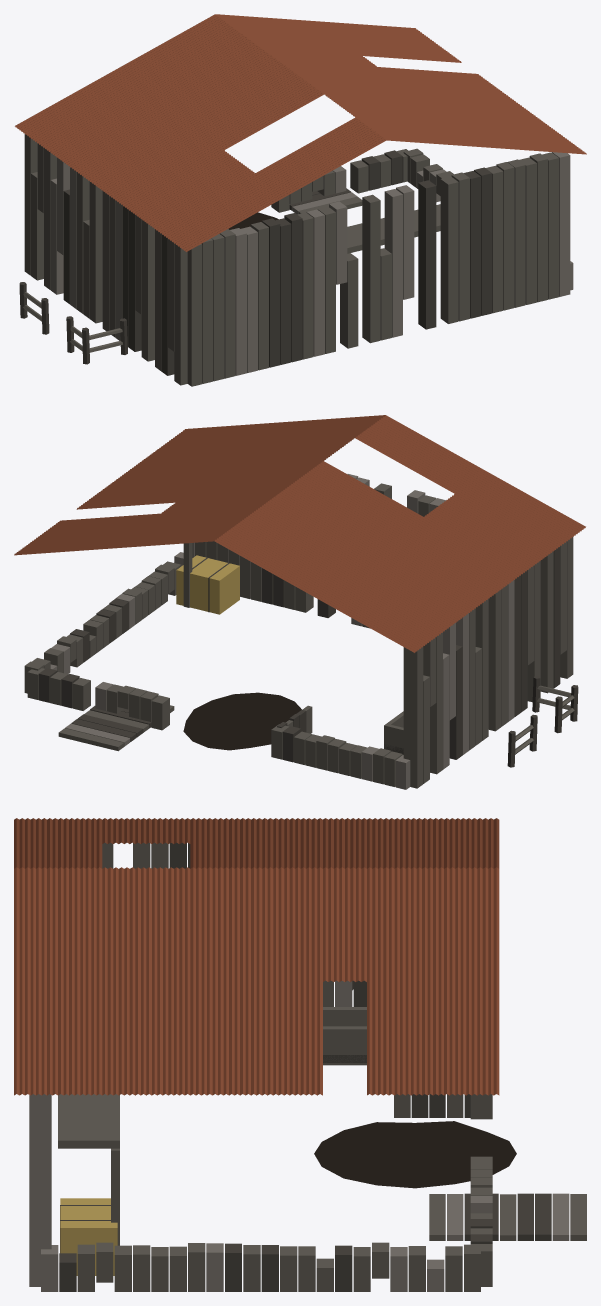
Rendered from barn.fbx.
The picture shows the model from 3 angles, top to bottom: view 1: azimuth 30°, elevation 25°; view 2: azimuth 150°, elevation 25°; view 3: azimuth 270°, elevation 25°; orthographic projection. The views are drawn at different scales.
Visible parts, largest first — view 1: BarnWalls, BarnRoof, BarnCutaway, BarnFence, BarnInterior; view 2: BarnRoof, BarnWalls, BarnCutaway, BarnInterior, BarnMud, BarnFence; view 3: BarnRoof, BarnCutaway, BarnInterior, BarnMud, BarnWalls.
Part boxes in pixels (<box>): BarnWalls: <box>24,133,570,386</box>; BarnRoof: <box>15,14,586,251</box>; BarnCutaway: <box>271,148,573,290</box>; BarnFence: <box>19,282,127,364</box>; BarnInterior: <box>255,173,440,253</box>; BarnRoof: <box>14,415,585,652</box>; BarnWalls: <box>192,474,573,788</box>; BarnCutaway: <box>24,552,410,789</box>; BarnInterior: <box>58,543,403,754</box>; BarnMud: <box>183,692,301,750</box>; BarnFence: <box>507,675,578,767</box>; BarnRoof: <box>14,818,499,1095</box>; BarnCutaway: <box>41,1094,492,1291</box>; BarnInterior: <box>58,1007,586,1275</box>; BarnMud: <box>314,1121,516,1188</box>; BarnWalls: <box>29,842,366,1286</box>.
Bounding box in the file's own units: 16.56 × 7.25 × 12.99.
